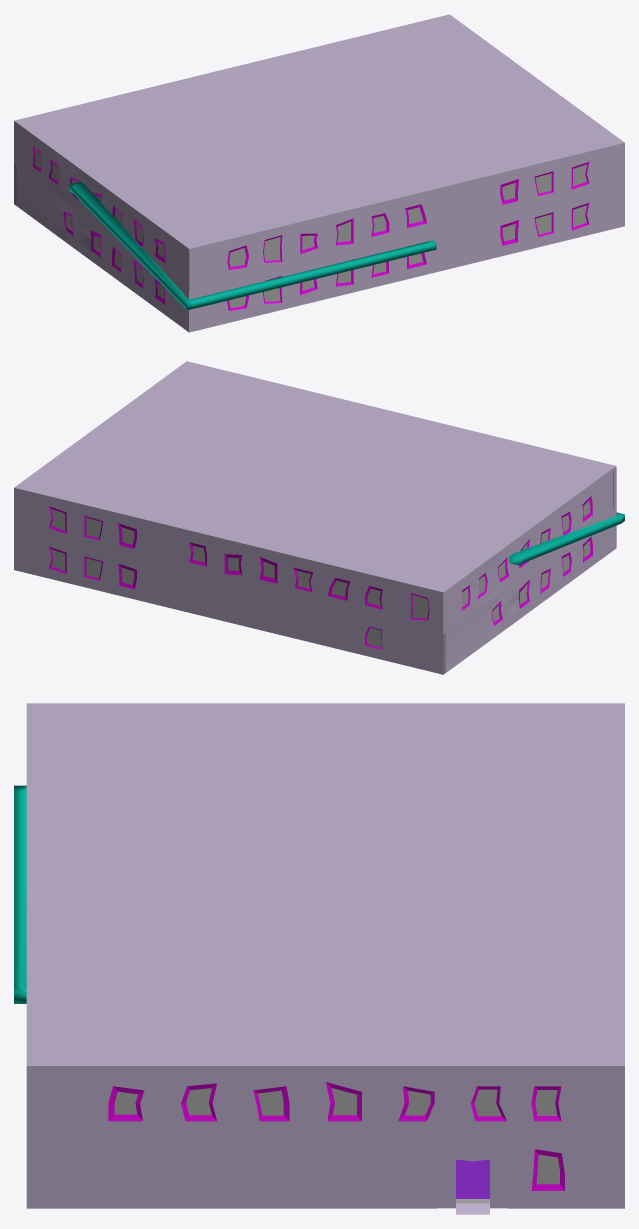
Rendered from SM_SchoolBuilding_3.1.fbx.
3 renders of one model, top to bottom at view 1: azimuth 30°, elevation 25°; view 2: azimuth 150°, elevation 25°; view 3: azimuth 270°, elevation 25°, orthographic. The views are drawn at different scales.
Parts seen in each view (by area): view 1: SM_SchoolCeiling_3, SM_SchoolWallEastTop_3, SM_SchoolWallEastBottom_3, SM_SchoolWallSouthBottom_3, SM_SchoolWallSoutTop_3, SM_Vent_1_2; view 2: SM_SchoolCeiling_3, SM_SchoolWallWestTop_3, SM_SchoolWallWestBottom_3, SM_SchoolWallSouthBottom_3, SM_SchoolWallSoutTop_3, SM_Vent_1_2; view 3: SM_SchoolCeiling_3, SM_SchoolWallNorthTop_3, SM_SchoolWallNothBottom_3, SM_SchoolSmallWallNorthBottom_3, SM_OutsideDoorFrame_3, SM_Vent_1_2, SM_HallwayFloor_3, SM_SchoolWallEastTop_3, SM_SchoolWallWestTop_3.
Boxes of the visible parts, x1,y1,x2,y2 form: SM_SchoolCeiling_3: (14,14,624,250); SM_SchoolWallEastTop_3: (186,144,624,291); SM_SchoolWallEastBottom_3: (186,185,624,332); SM_SchoolWallSouthBottom_3: (16,166,186,329); SM_SchoolWallSoutTop_3: (16,124,186,288); SM_Vent_1_2: (69,182,436,310); SM_SchoolCeiling_3: (14,361,616,593); SM_SchoolWallWestTop_3: (14,489,445,635); SM_SchoolWallWestBottom_3: (14,530,445,674); SM_SchoolWallSouthBottom_3: (446,510,613,672); SM_SchoolWallSoutTop_3: (446,470,613,632); SM_Vent_1_2: (509,512,624,565); SM_SchoolCeiling_3: (26,703,624,1068); SM_SchoolWallNorthTop_3: (36,1068,615,1139); SM_SchoolWallNothBottom_3: (34,1138,436,1208); SM_SchoolSmallWallNorthBottom_3: (507,1138,617,1208); SM_OutsideDoorFrame_3: (437,1140,507,1214); SM_Vent_1_2: (14,785,26,1003); SM_HallwayFloor_3: (456,1159,489,1198); SM_SchoolWallEastTop_3: (26,1068,35,1139); SM_SchoolWallWestTop_3: (615,1068,624,1139).
Bounding box in the file's own units: 5799 × 1032 × 3962.
